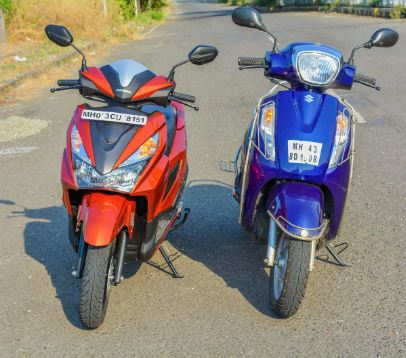bike: (43, 25, 219, 329), (231, 7, 398, 323)
